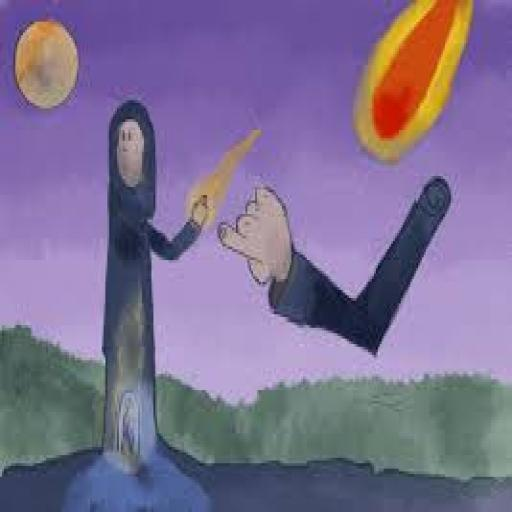person: (98, 88, 215, 512)
